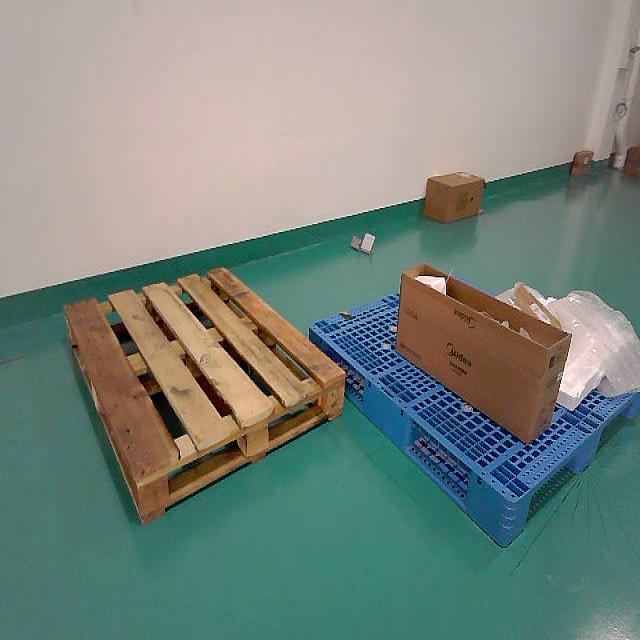euro: (64, 268, 344, 521)
